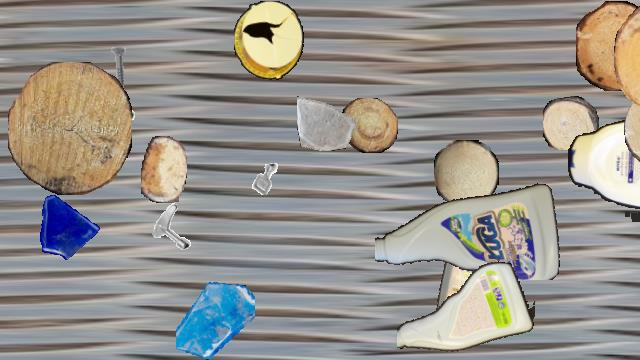glass: (176, 281, 254, 359), (30, 189, 100, 259), (297, 92, 355, 150)
metal: (83, 99, 145, 161), (146, 200, 200, 254), (95, 45, 143, 93), (244, 157, 288, 201)
plastic: (375, 176, 563, 280), (397, 257, 535, 359), (431, 217, 497, 339), (568, 118, 640, 222), (234, 1, 304, 79)
wood: (8, 62, 132, 194), (576, 1, 640, 91), (434, 140, 498, 204), (141, 136, 187, 202), (341, 98, 397, 152), (543, 96, 599, 150), (614, 1, 640, 113), (624, 84, 640, 164)
